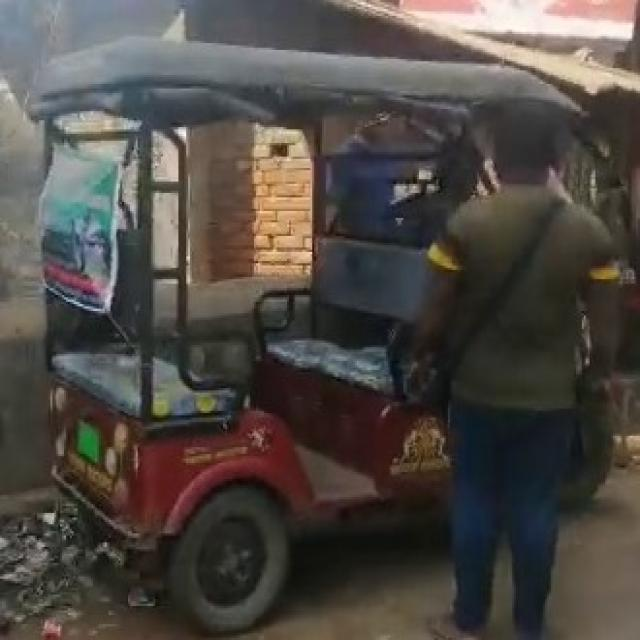car: (23, 34, 640, 633)
